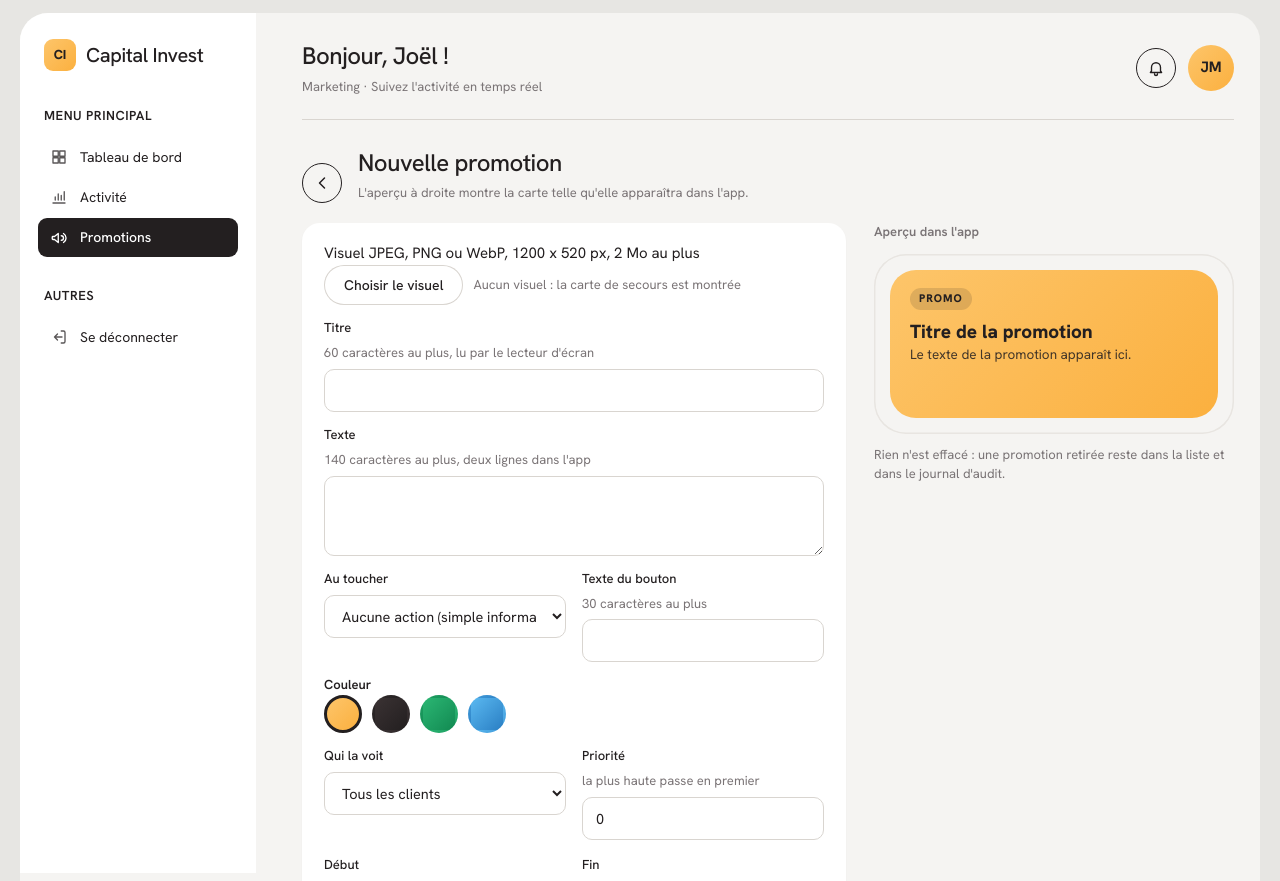
Test: promotions › le marketing publie une promotion en voyant l'aperçu de l'app
The image size is (1280, 881).
Earlier steps of the test are not shown.
Type "Fête de l'indépendance" into the field labelled "Titre 60 caractères au plus, lu par le lecteur d'écran". click: (574, 390)
box: [324,369,824,412]
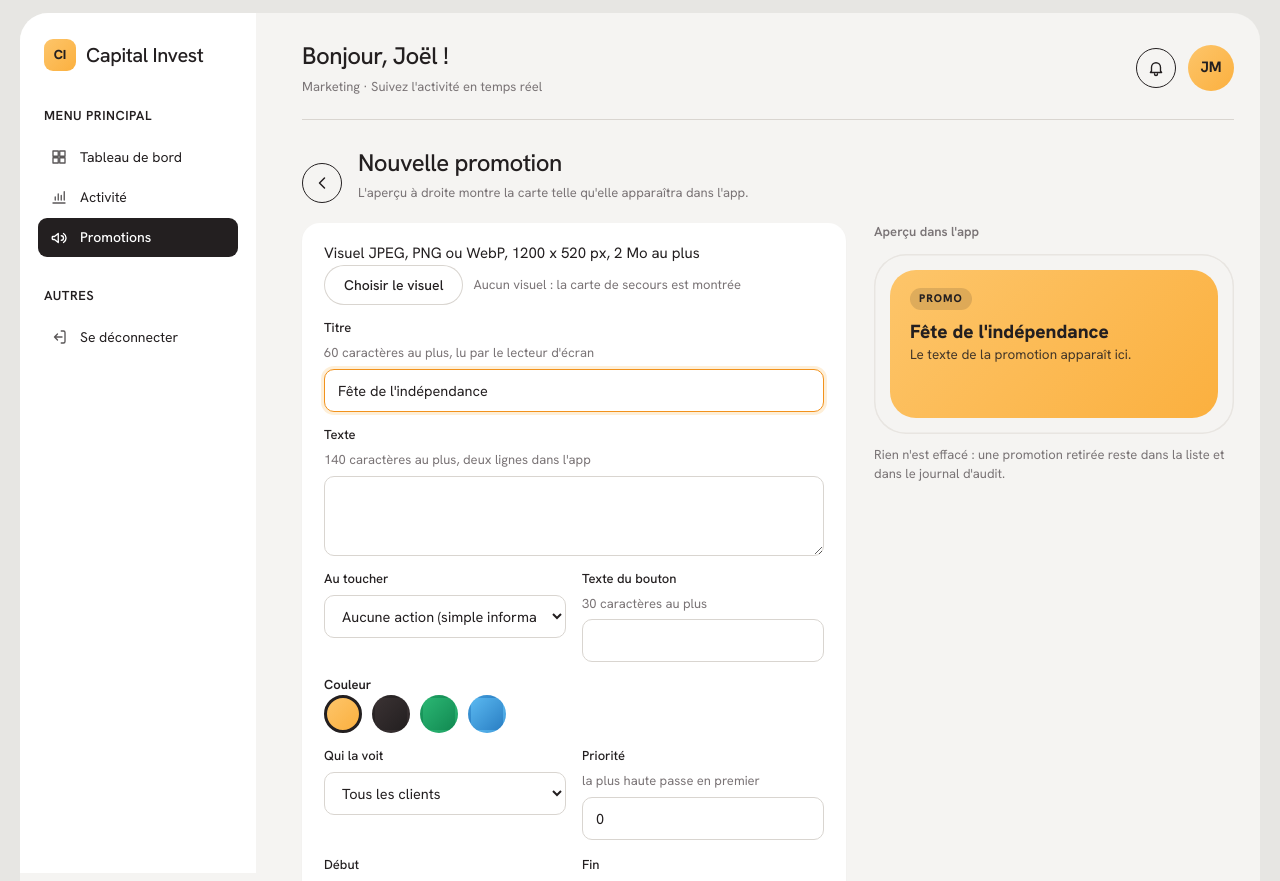
Type "Envois sans souci tout le week-end." into the text box labelled "Texte 140 caractères au plus, deux lignes dans l'app". click: (574, 516)
box: [324,476,824,556]
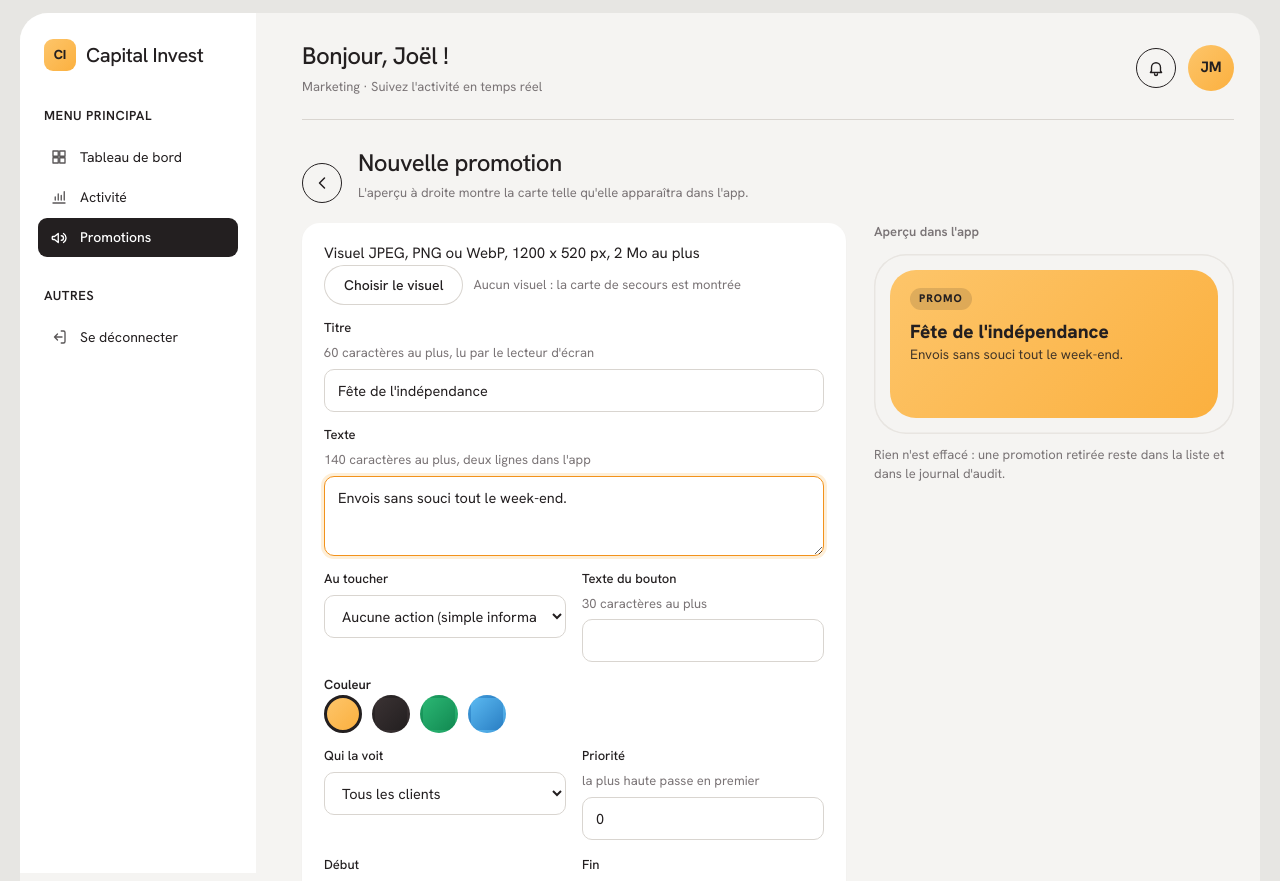
Select "Ouvre l'envoi d'argent" in the dropdown labelled "Au toucher". click: (445, 616)
box: [324,595,566,638]
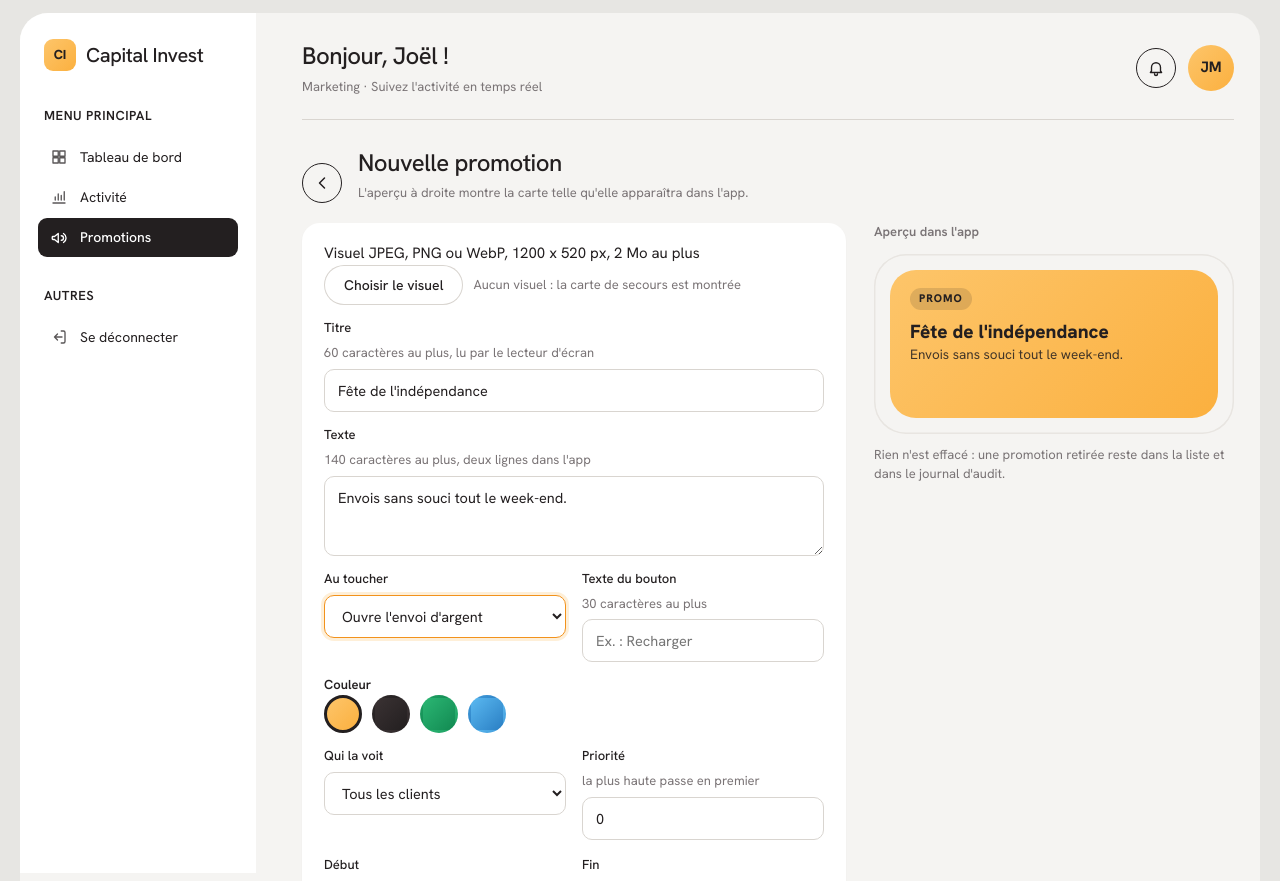
Type "Envoyer" into the field labelled "Texte du bouton 30 caractères au plus". click: (703, 641)
box: [582,619,824,662]
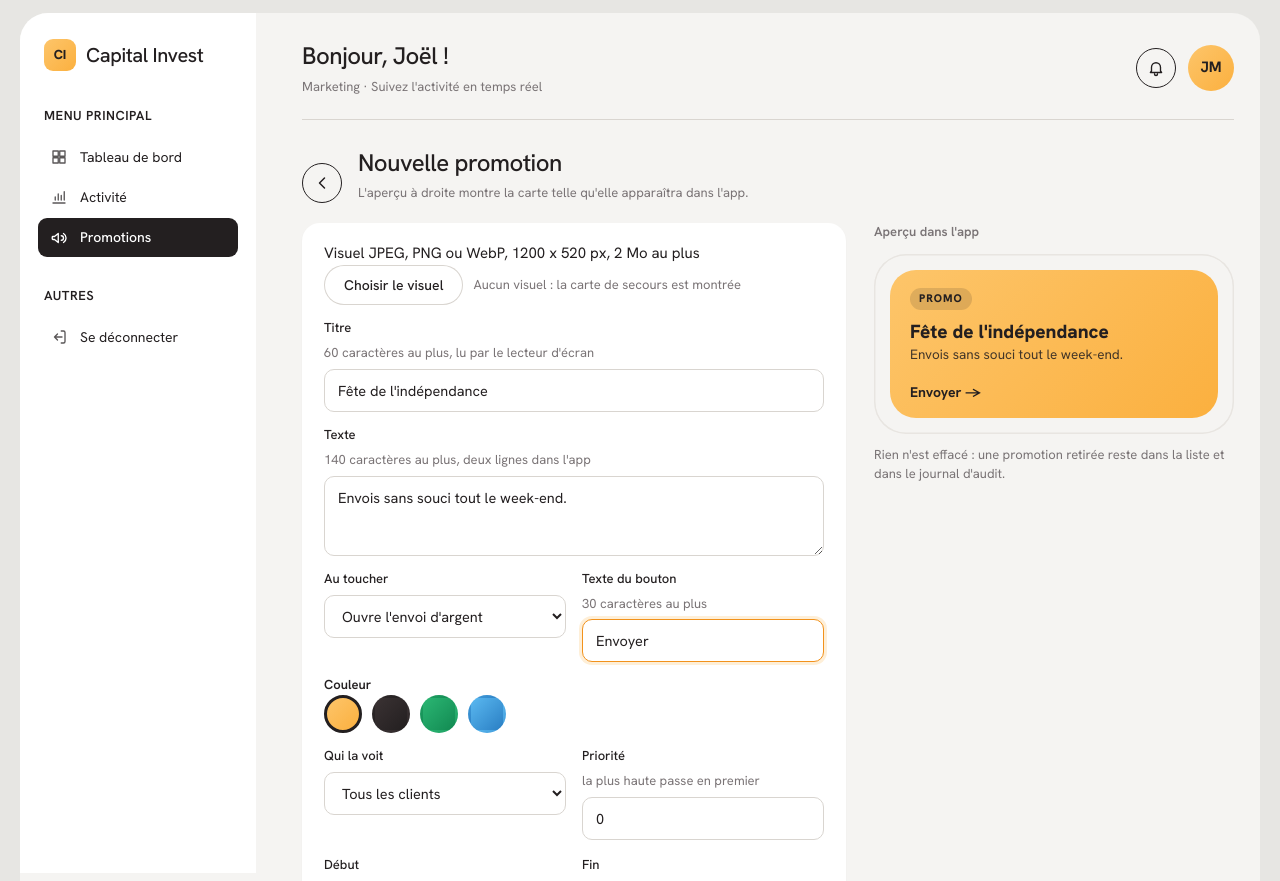
Click the radio button named "Vert". click: (439, 714)
box: [420,695,458,733]
(page scrolled)
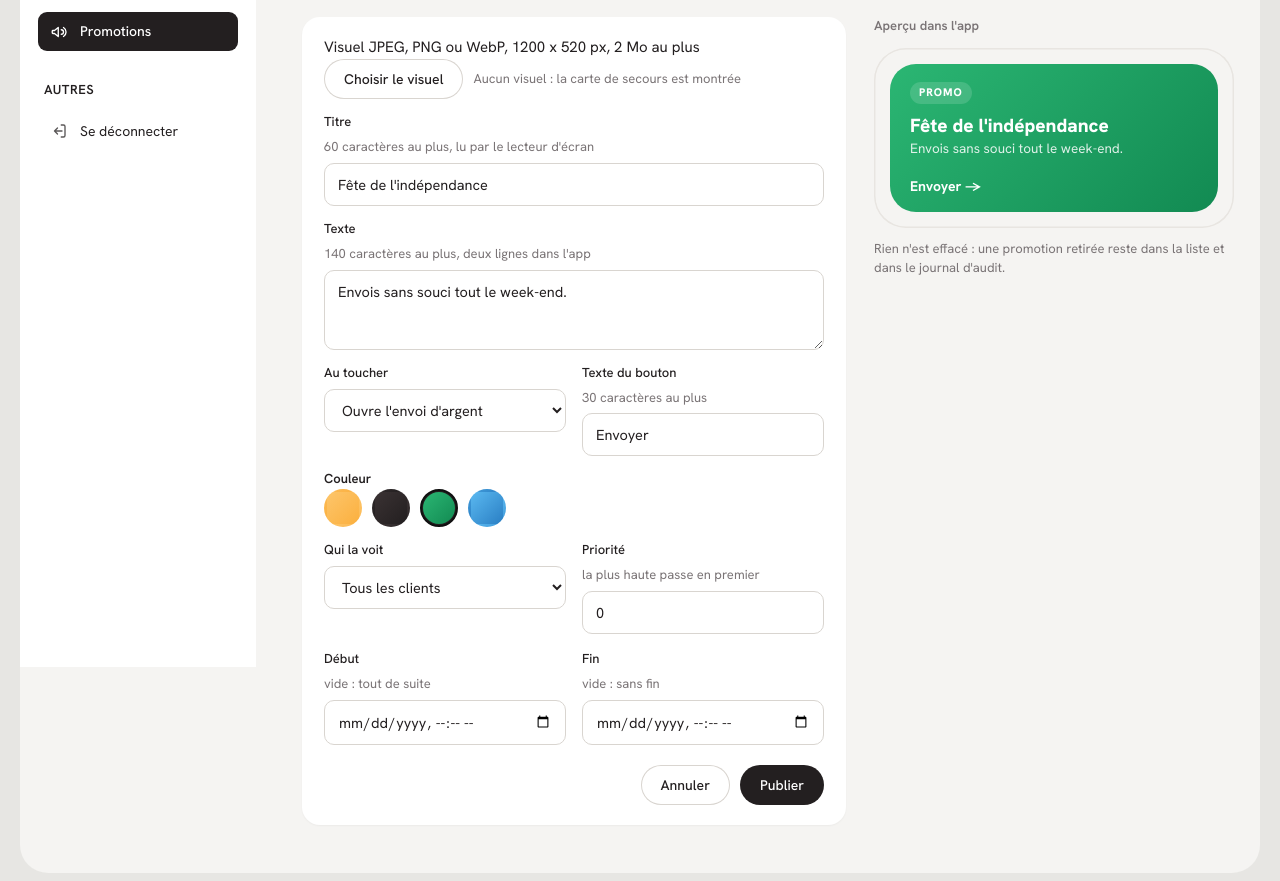
Now the element that starts with "PROMO" shows "Fête de l'indépendance", box [910,113,1109,138]
Now the element that starts with "PROMO" shows "Envoyer →", box [890,64,1218,212]
Click the button "Publier". click: (782, 785)
box: [740,765,824,805]
(page scrolled)
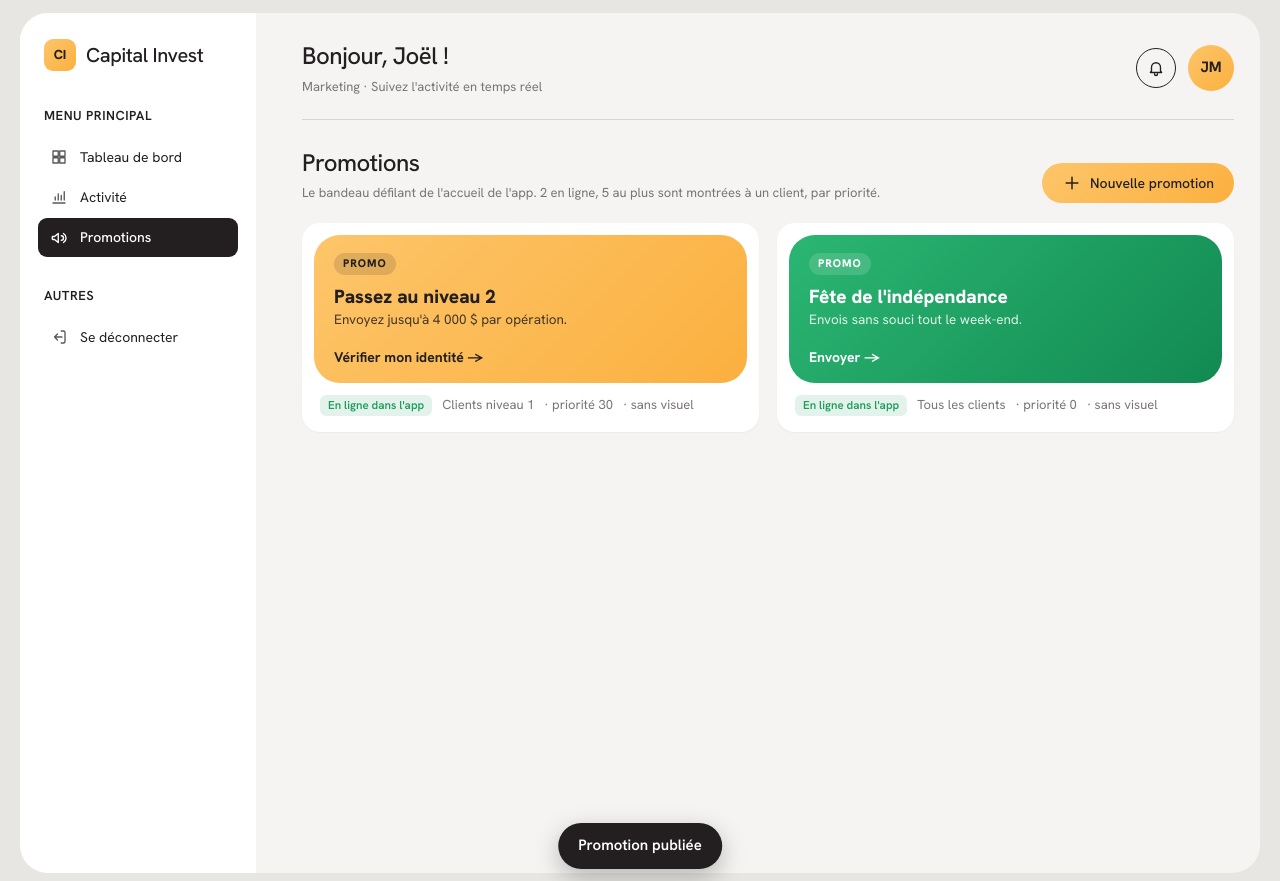
Now the message reads "Promotion publiée", box [578,835,702,855]
